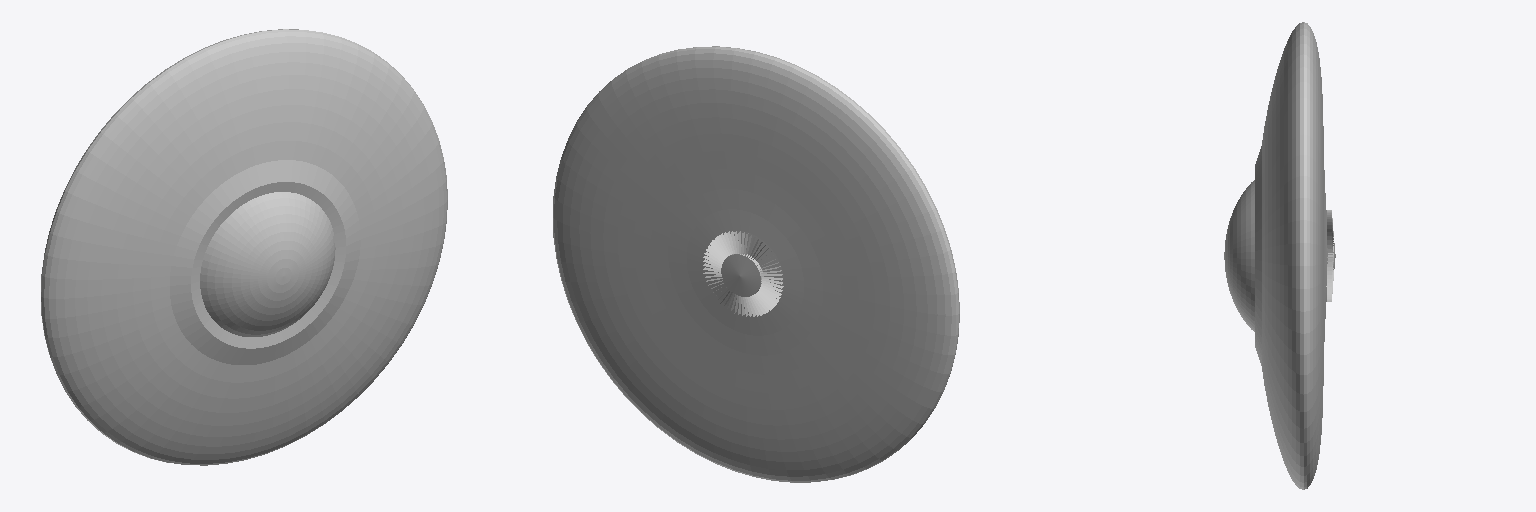
The model's file is ufo.obj.
The picture shows the model from 3 angles: view 1: azimuth 30°, elevation 25°; view 2: azimuth 150°, elevation 25°; view 3: azimuth 270°, elevation 25°; orthographic projection.
Visible parts, largest first — view 1: obj3, obj2; view 2: obj3; view 3: obj3, obj2.
Part boxes in pixels (left/top/right/bottom): obj3: left=41, top=29, right=447, bottom=465; obj2: left=200, top=192, right=335, bottom=336; obj3: left=553, top=46, right=959, bottom=482; obj3: left=1255, top=22, right=1335, bottom=489; obj2: left=1224, top=180, right=1254, bottom=331.
Size of the model in its own units: 2 by 2 by 0.4749.